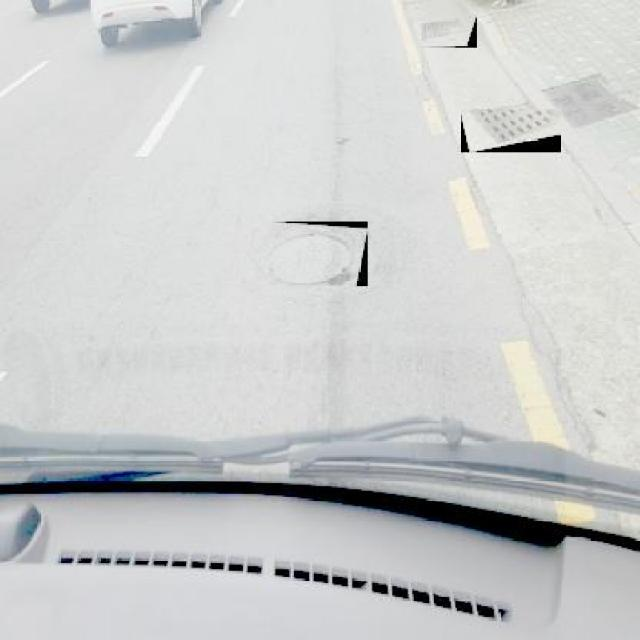Manhole: (269, 222, 368, 287), (540, 72, 636, 126), (460, 110, 560, 152), (420, 15, 478, 48)
Pothole: (326, 132, 349, 146)
